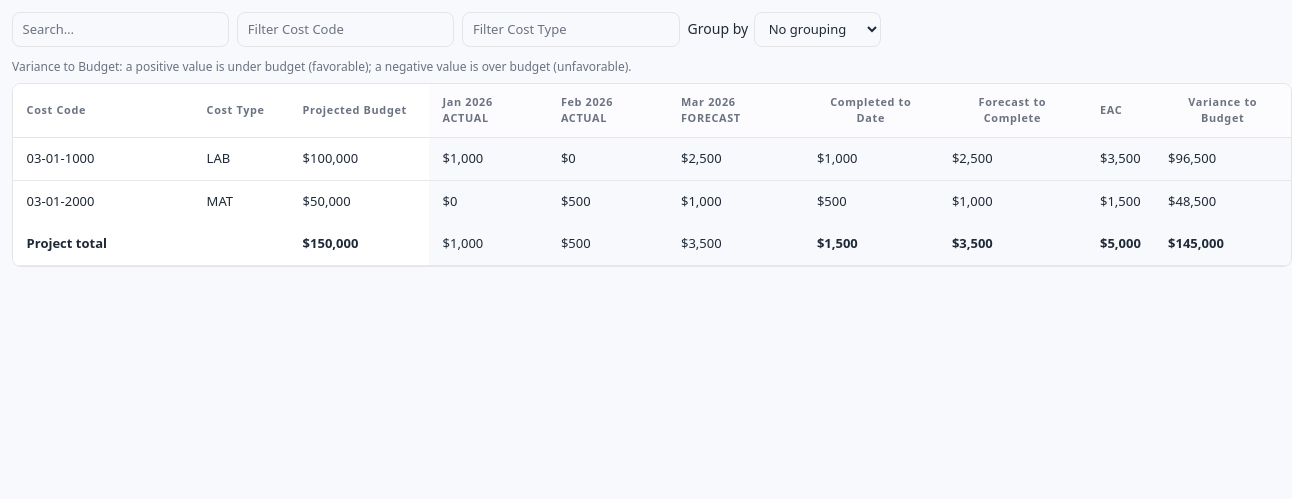
Scenario: ForecastMonthlyMatrixTable › updates group subtotals when a filter narrows the visible rows
This screenshot has width=1292, height=499.
Select "Cost Category" in the dropdown named "Group rows": (818, 29) [754,12,881,47]
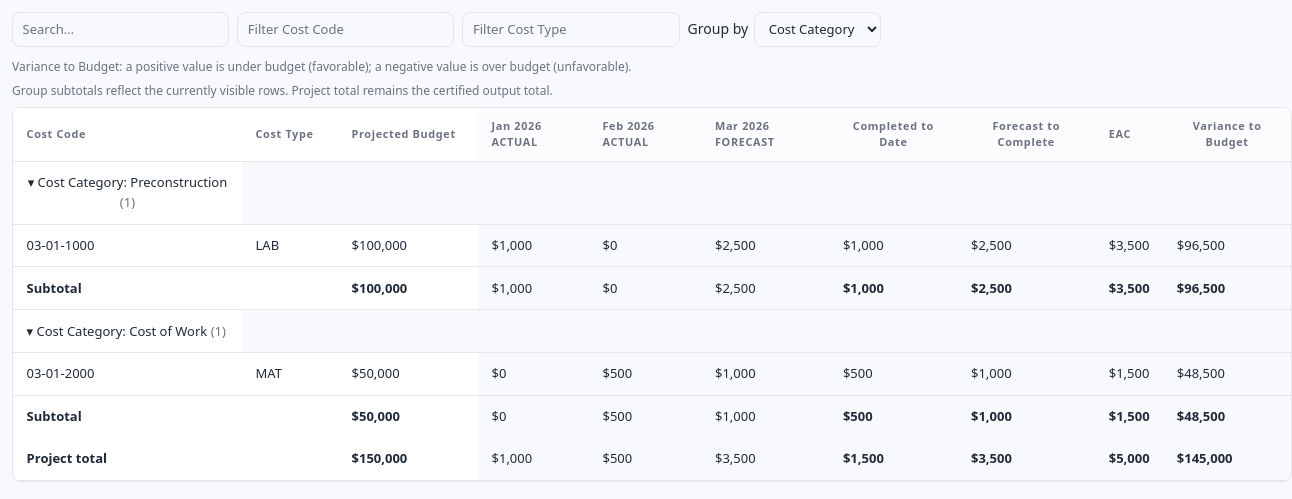
In the search field named "Filter by Cost Type": (571, 29) [462,12,680,47], type "MAT"
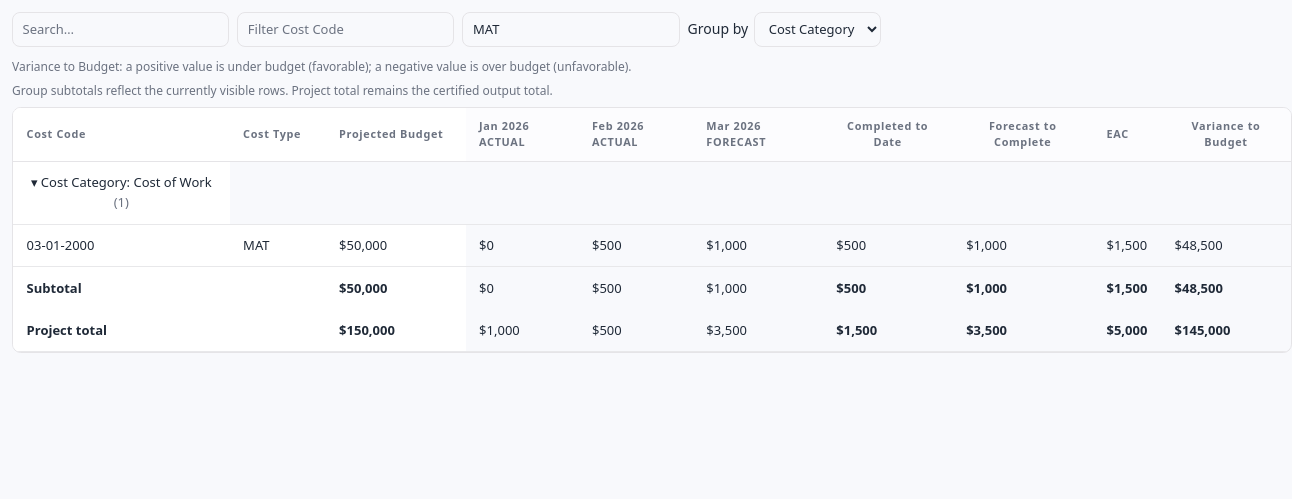
Expected: the text "Cost Category: Cost of Work" is shown, [41,173,212,191]
Expected: the button "Cost Category: Preconstruction" is gone
